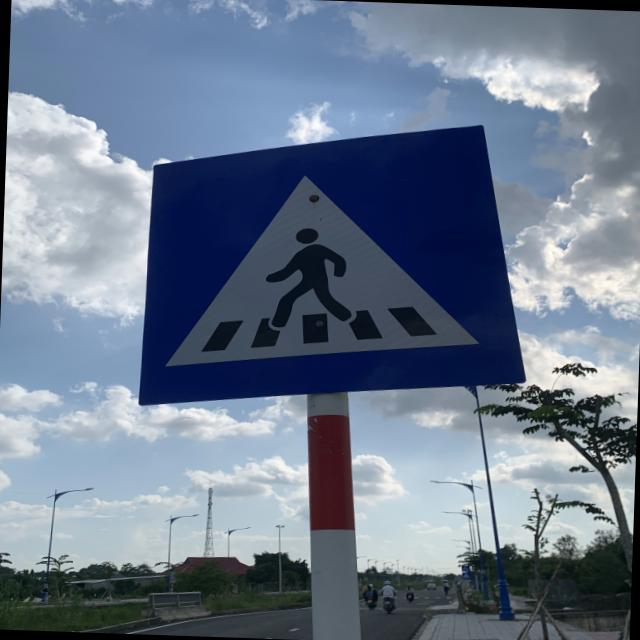Giao_Nhau_Duong_Uu_Tien: (141, 112, 529, 422)
